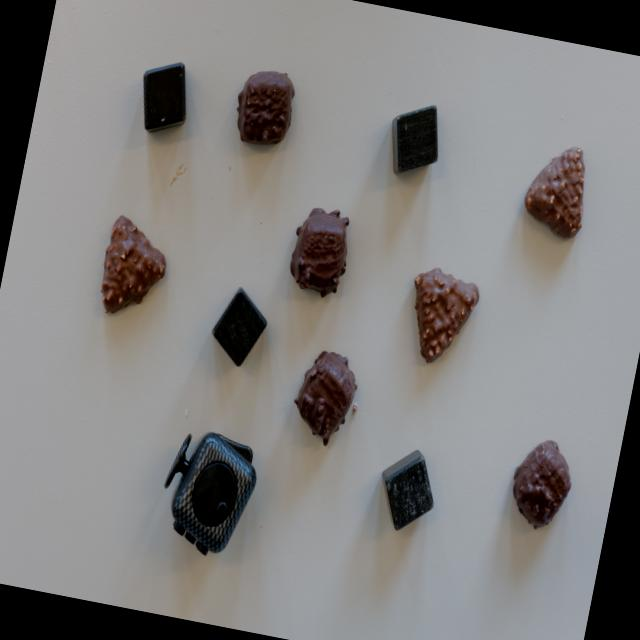Tentation_noir: (506, 438, 579, 532), (294, 348, 364, 441), (286, 206, 356, 298), (232, 66, 300, 154)
Triangolo: (400, 264, 482, 368), (95, 214, 173, 321), (522, 137, 596, 240)
